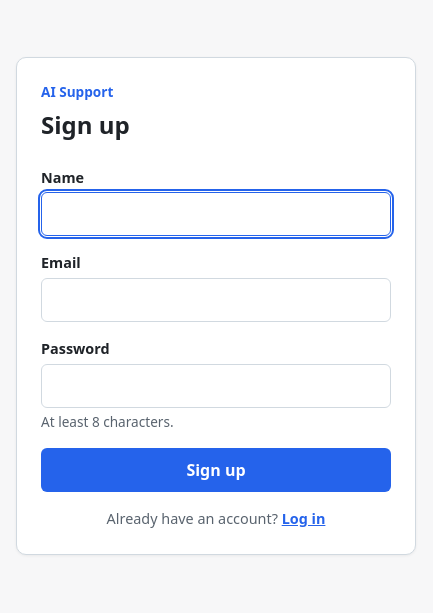
Test: Rate limit messages (BON-02) › BON-02: too many signup attempts shows the server’s message
Type "Jane" into the field labelled "Name" at {"x": 216, "y": 214}, box [41,192,391,236]
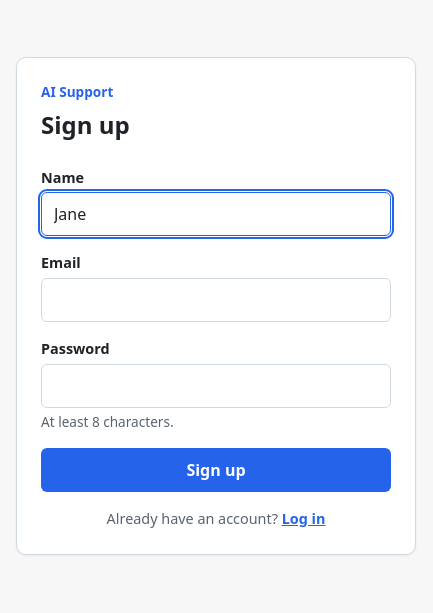
Type "jane@example.com" into the field labelled "Email" at {"x": 216, "y": 300}, box [41,278,391,322]
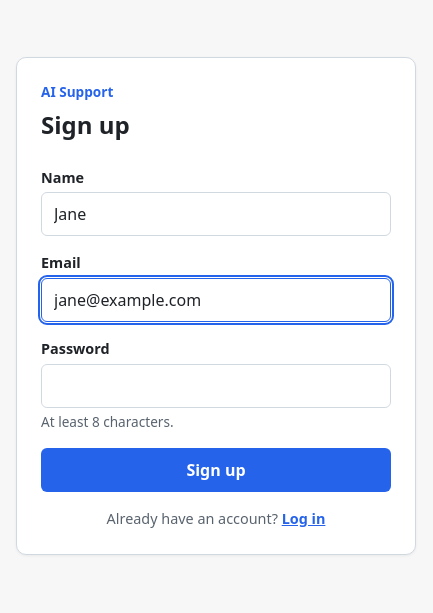
Type "some-password" into the password field labelled "Password" at {"x": 216, "y": 386}, box [41,364,391,408]
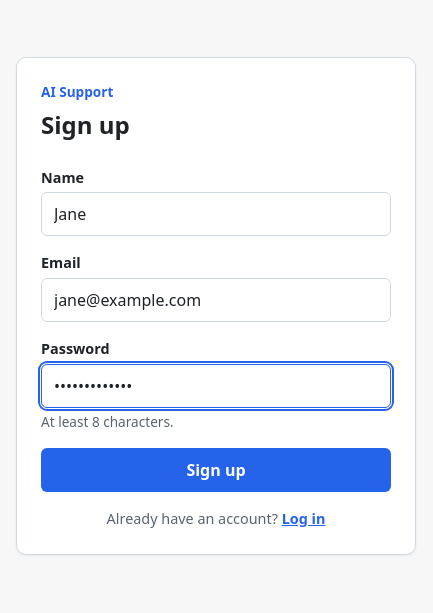
Click the button "Sign up" at {"x": 216, "y": 470}, box [41,448,391,492]
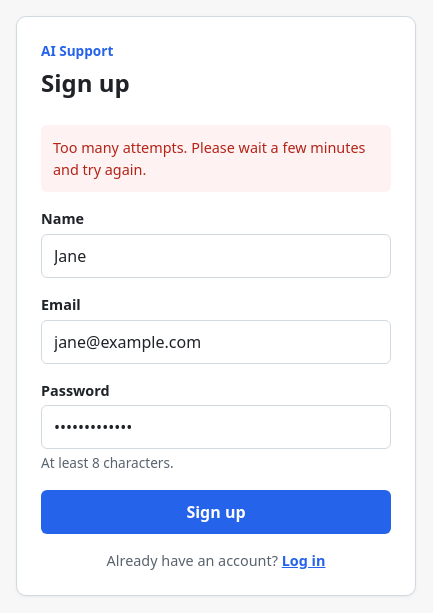
Check: the message shows "Too many attempts", box [53,138,365,179]
